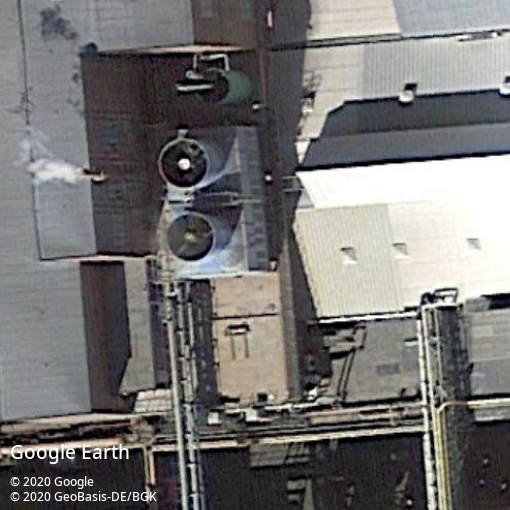Vent: (158, 138, 210, 189), (166, 212, 214, 262)
